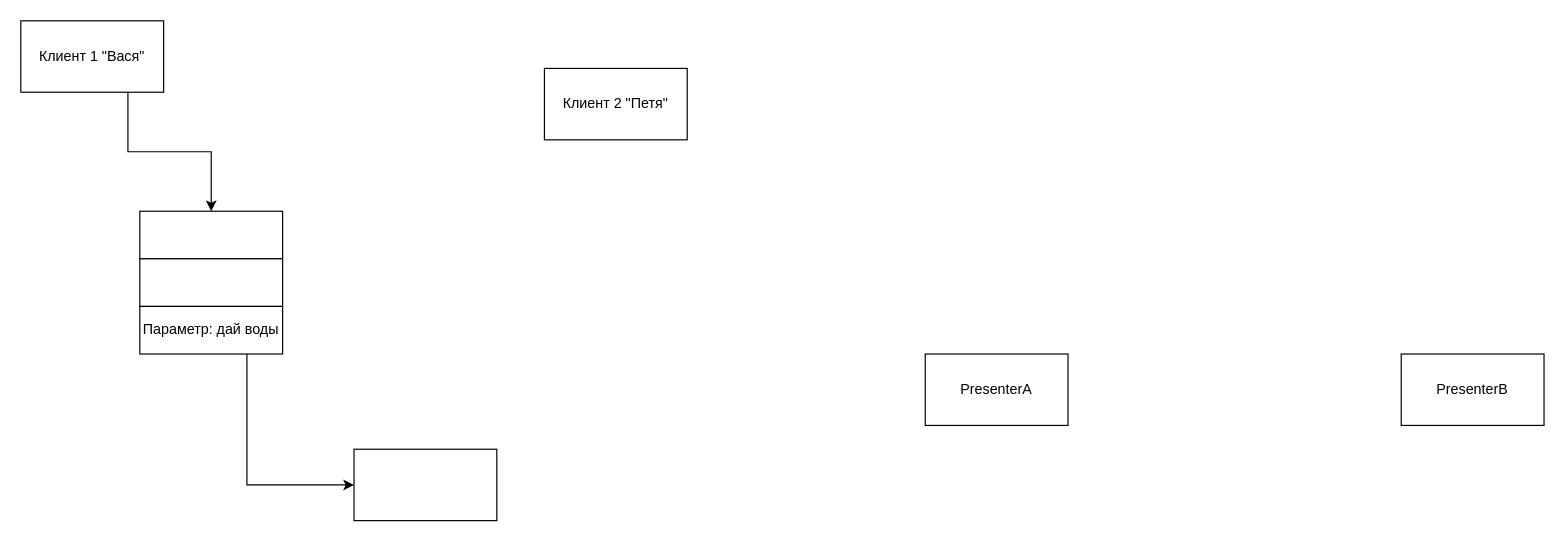
Some shapes in this 1565 by 541 pixel diagram are drawn without their labels. The centre of each missing label's shape, as x and y in pixels:
Запрос: the point at 211,234
Кому: Петя: the point at 211,282
Хаб: the point at 425,484
